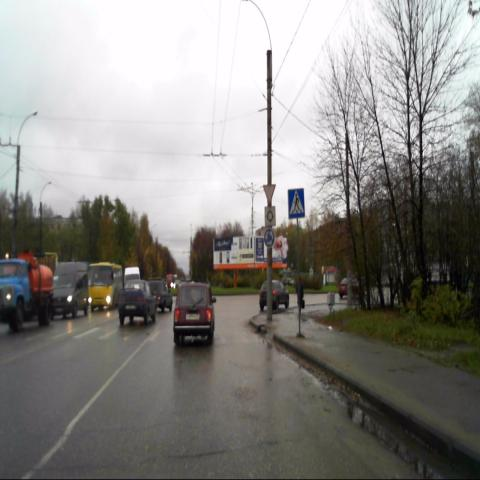2_4: (262, 184, 276, 205)
4_3: (264, 227, 274, 246)
5_19_1: (288, 188, 304, 218)
8_13_1: (264, 206, 276, 225)
